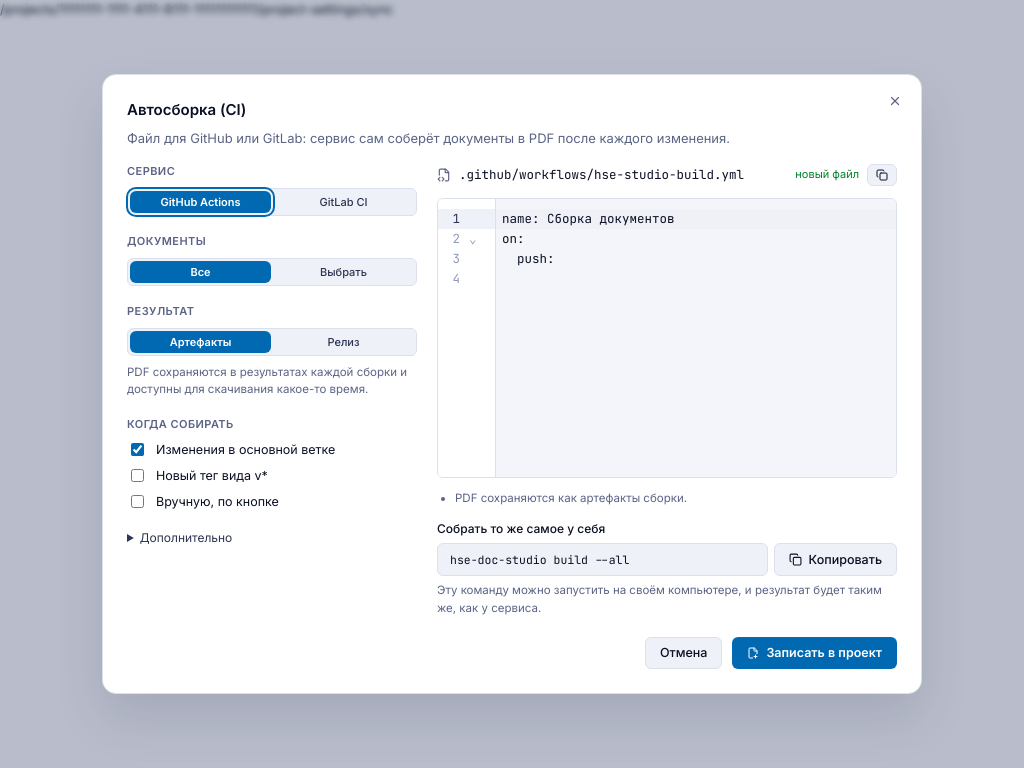
Scenario: окно автосборки (CI) › дает выбрать документы и не пускает дальше с пустым выбором
Expected: the element with test id "ci-yaml" is shown, [437,198,897,478]
Click the radio button labelled "Выбрать". click: (344,272)
box: [273,261,414,283]
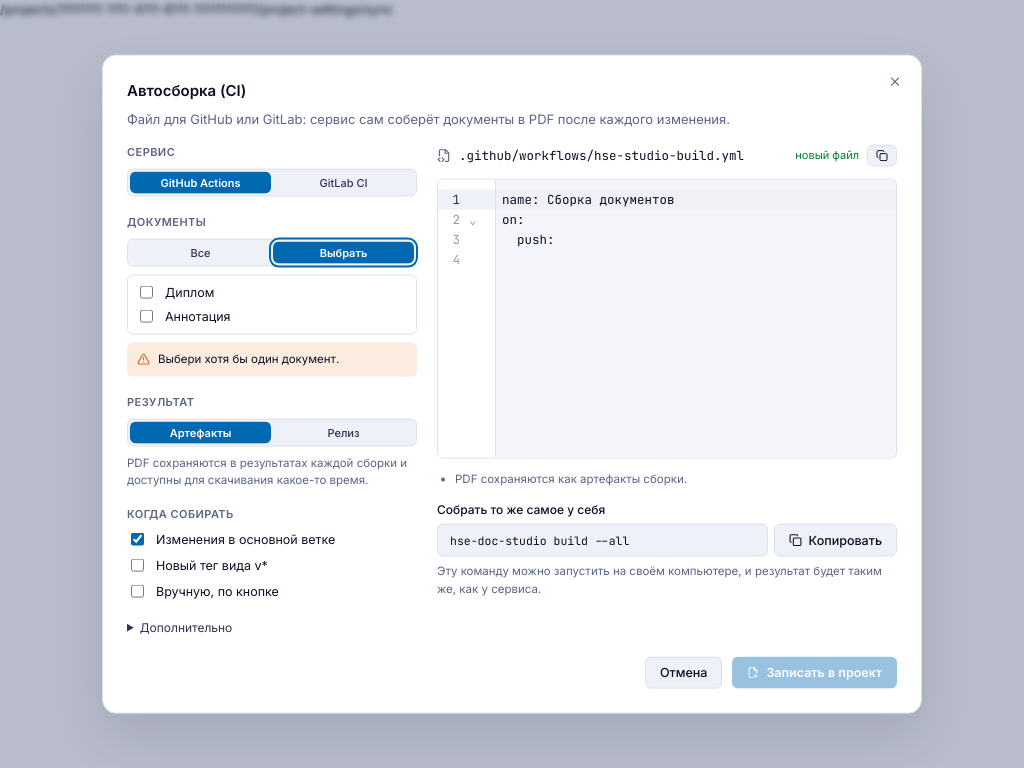
Now the text "Выбери хотя бы один документ." is shown, box [158,352,339,366]
Now the button "Записать в проект" is disabled, box [732,656,897,688]
Click the checkbox labelled "Диплом". click: (146,292)
box: [140,286,153,299]
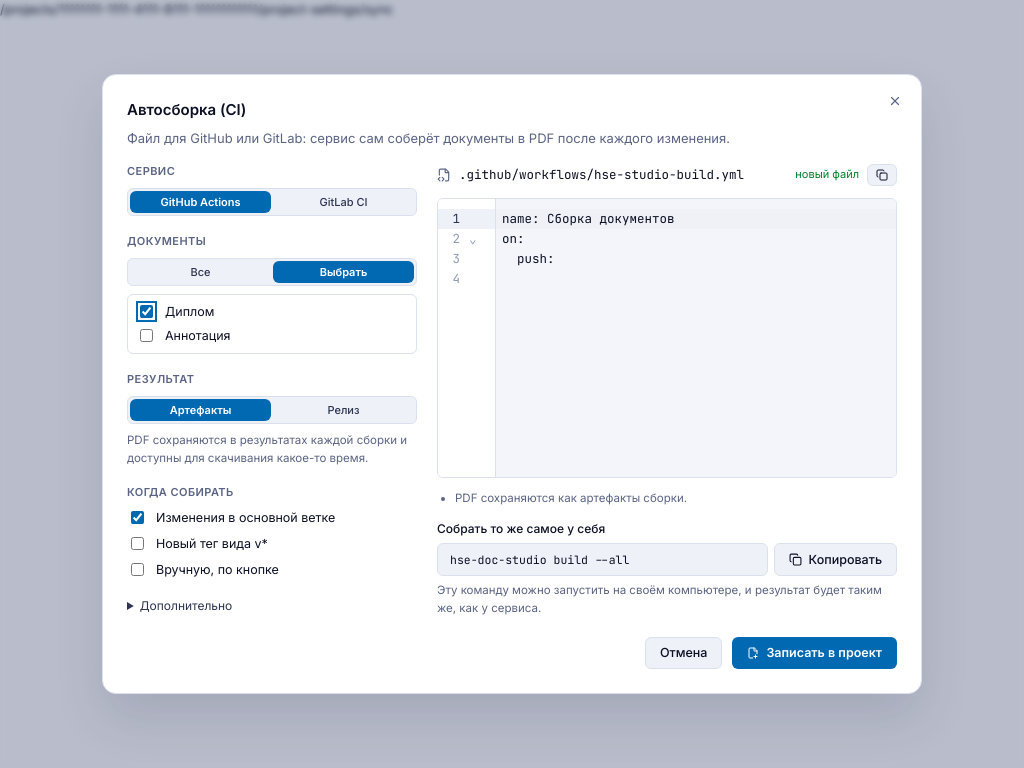
Now the text "Выбери хотя бы один документ." is gone
